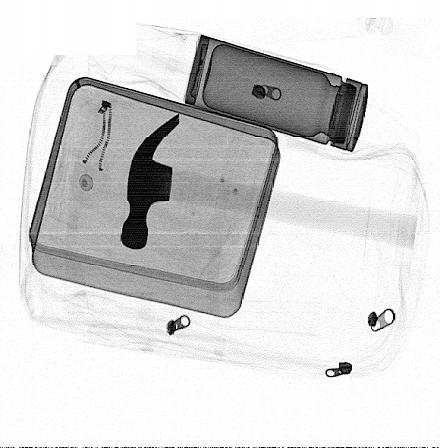Hammer: (121, 112, 418, 251)
